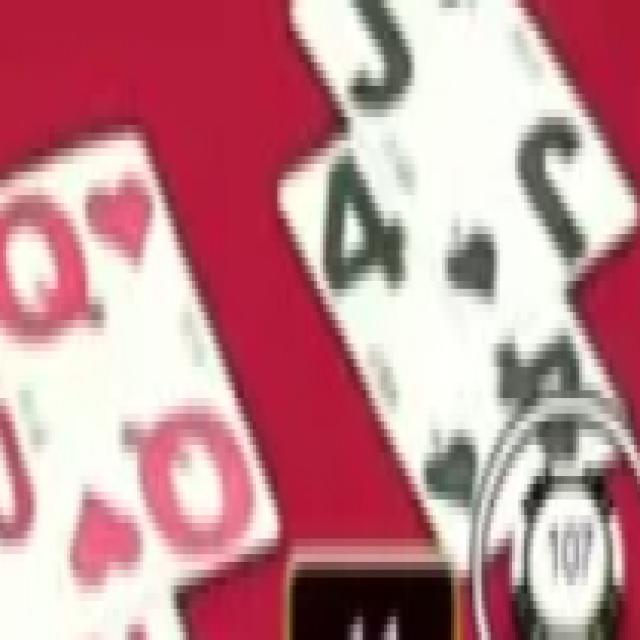Card-4: (278, 127, 633, 584)
Card-J: (292, 0, 640, 360), (0, 342, 184, 640)
Card-Q: (0, 127, 282, 627)
